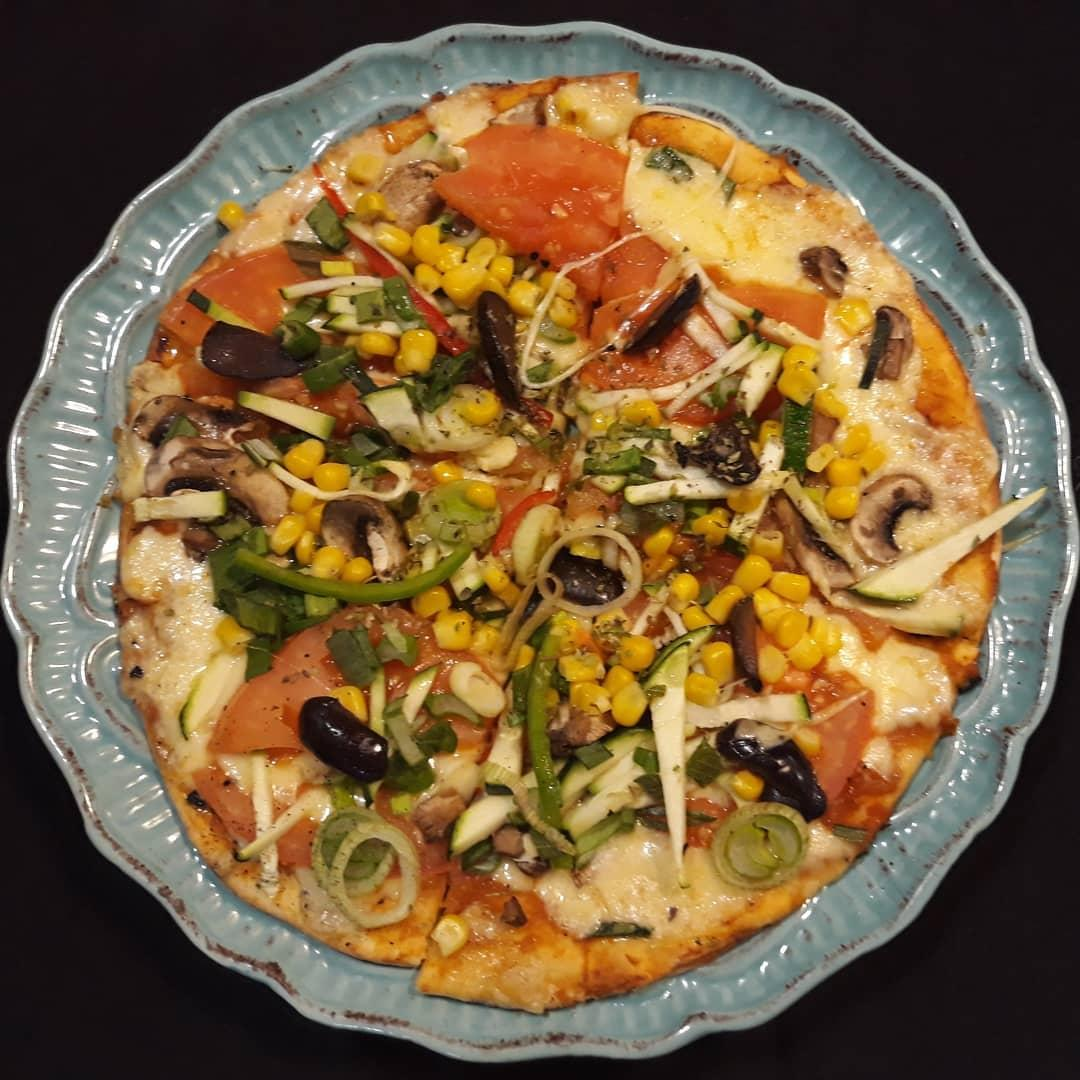Corn: (738, 557, 841, 671), (562, 636, 652, 722), (412, 585, 473, 653), (668, 575, 738, 632), (684, 643, 738, 710), (410, 221, 441, 297), (780, 344, 817, 406), (843, 424, 888, 472), (442, 262, 486, 311), (591, 400, 662, 429), (542, 271, 580, 324), (397, 327, 442, 370), (825, 458, 856, 517), (345, 328, 397, 361), (271, 514, 309, 553), (833, 299, 873, 336), (369, 221, 411, 256), (352, 190, 397, 220), (464, 392, 497, 430), (508, 280, 541, 318), (288, 441, 323, 476), (312, 545, 343, 583), (332, 684, 365, 717), (343, 557, 373, 589), (466, 479, 499, 508), (347, 155, 385, 180), (441, 240, 467, 273), (430, 459, 462, 485), (467, 235, 496, 262), (316, 465, 349, 488), (217, 206, 247, 230), (294, 533, 317, 561), (320, 258, 356, 275), (293, 488, 312, 512)
Mushroom: (144, 453, 288, 529), (132, 385, 249, 453), (325, 493, 409, 575), (856, 478, 929, 562), (475, 290, 525, 404), (681, 417, 761, 486), (854, 308, 913, 390), (802, 247, 850, 300)
Pizza: (116, 64, 1055, 1005)
Tomatoes: (441, 127, 623, 289), (221, 616, 340, 755), (160, 245, 297, 350), (789, 676, 877, 806), (574, 226, 670, 337), (705, 268, 828, 338)
